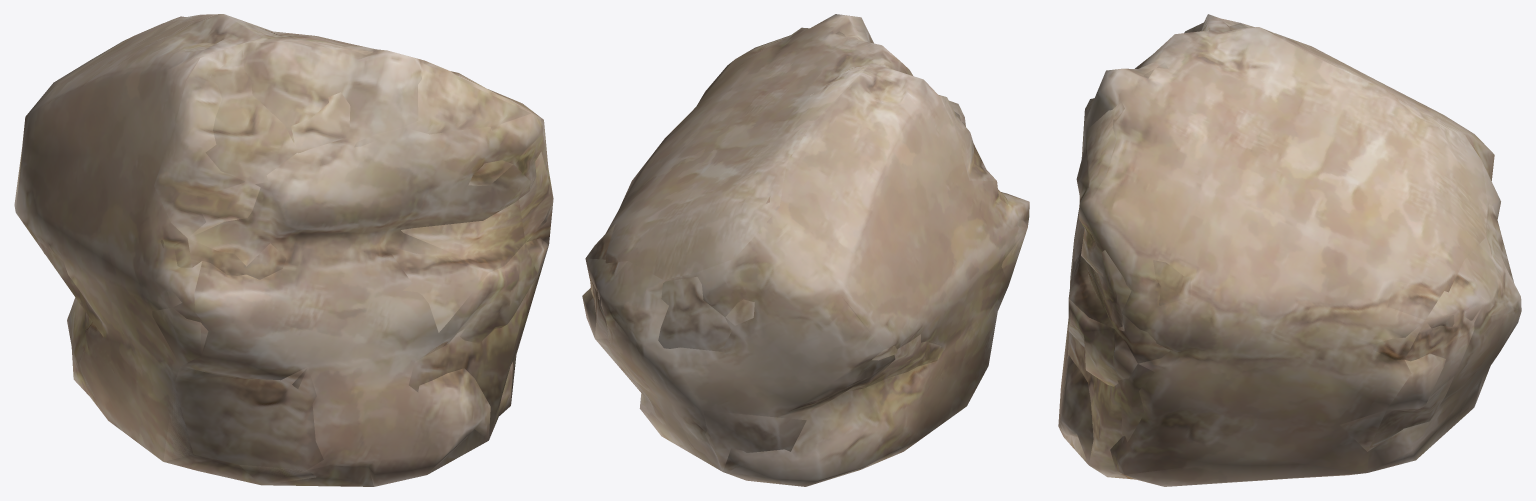
Rendered from Stone_3.FBX.
The picture shows the model from 3 angles, left to right: view 1: azimuth 30°, elevation 25°; view 2: azimuth 150°, elevation 25°; view 3: azimuth 270°, elevation 25°; orthographic projection. The views are drawn at different scales.
Parts seen in each view (by area): view 1: Stone_3, Stone_3_Lod; view 2: Stone_3, Stone_3_Lod; view 3: Stone_3, Stone_3_Lod.
Boxes of the visible parts, x1,y1,x2,y2 form: Stone_3: (14,14,553,486); Stone_3_Lod: (16,32,553,486); Stone_3: (582,14,1029,486); Stone_3_Lod: (585,31,1027,471); Stone_3: (1058,14,1521,486); Stone_3_Lod: (1064,23,1520,486).
Bounding box in the file's own units: 0.785 × 0.6984 × 0.7143.
